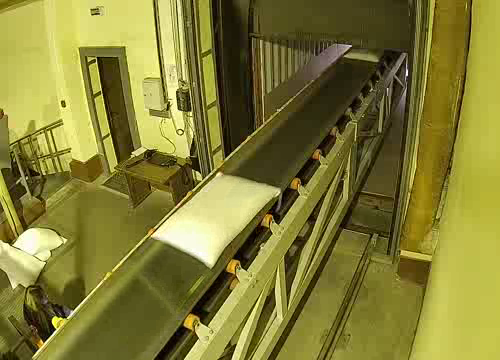bag: (140, 166, 290, 271), (337, 45, 389, 64)
